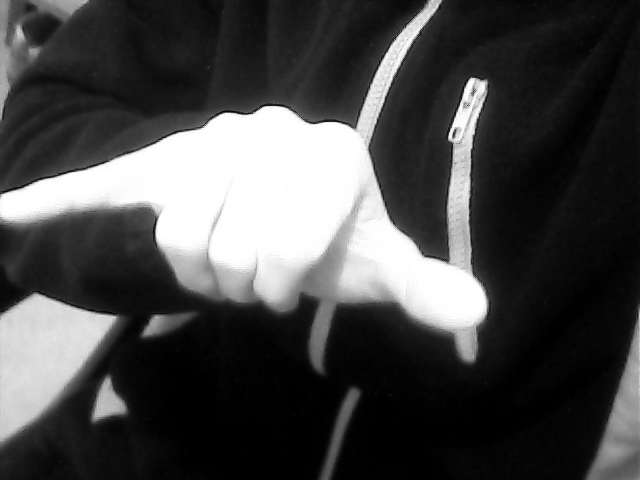aloha: (2, 100, 495, 336)
